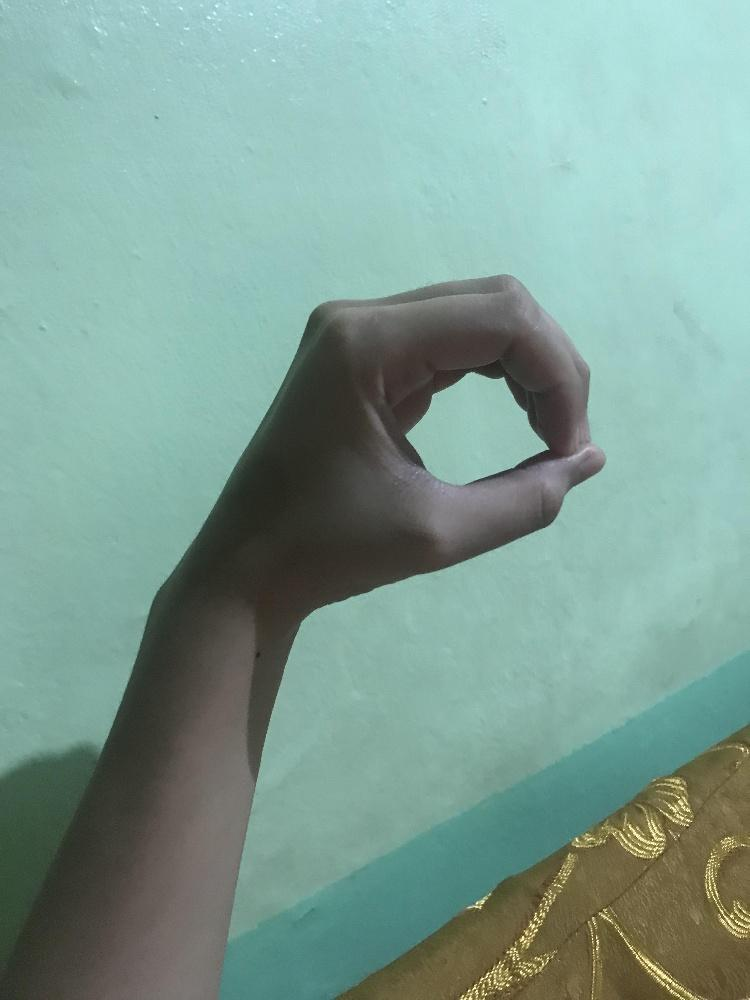o: (219, 265, 608, 615)
